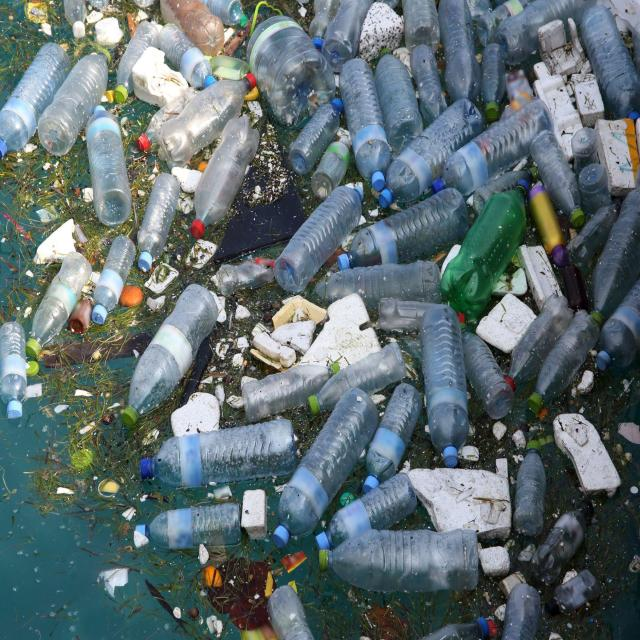bottle: (266, 388, 382, 548), (118, 282, 220, 429), (440, 176, 535, 317), (238, 1, 338, 132), (325, 181, 450, 281), (377, 101, 484, 211), (136, 420, 300, 490), (271, 181, 364, 299), (430, 104, 550, 195), (319, 529, 480, 596), (153, 72, 257, 170), (188, 114, 261, 241), (0, 39, 73, 163), (34, 48, 113, 161), (318, 465, 408, 560), (21, 248, 93, 364), (305, 339, 406, 415), (578, 0, 640, 121), (338, 58, 393, 191), (422, 304, 465, 472), (504, 291, 574, 393), (361, 382, 422, 496), (530, 307, 595, 410), (593, 186, 640, 324), (236, 360, 339, 419), (529, 125, 587, 228), (529, 497, 596, 585), (84, 108, 133, 228), (134, 500, 246, 552), (497, 0, 586, 65), (374, 46, 426, 150), (88, 232, 136, 338), (286, 94, 342, 180), (437, 0, 483, 103), (135, 170, 180, 275), (596, 280, 640, 382), (524, 183, 568, 279), (463, 330, 510, 418), (112, 17, 158, 105), (160, 25, 220, 92), (512, 435, 547, 542), (0, 313, 31, 430), (321, 0, 368, 71), (156, 0, 228, 46), (567, 208, 618, 272), (136, 92, 186, 154), (212, 255, 282, 297), (266, 583, 317, 640), (310, 136, 352, 204), (411, 41, 444, 122), (547, 573, 600, 622), (374, 291, 436, 331), (397, 0, 440, 56), (418, 609, 493, 640), (504, 580, 542, 640), (475, 0, 527, 39), (485, 28, 507, 111), (578, 165, 611, 208), (57, 0, 91, 38), (569, 124, 601, 163), (311, 2, 336, 45), (211, 0, 249, 20), (58, 486, 58, 545)
